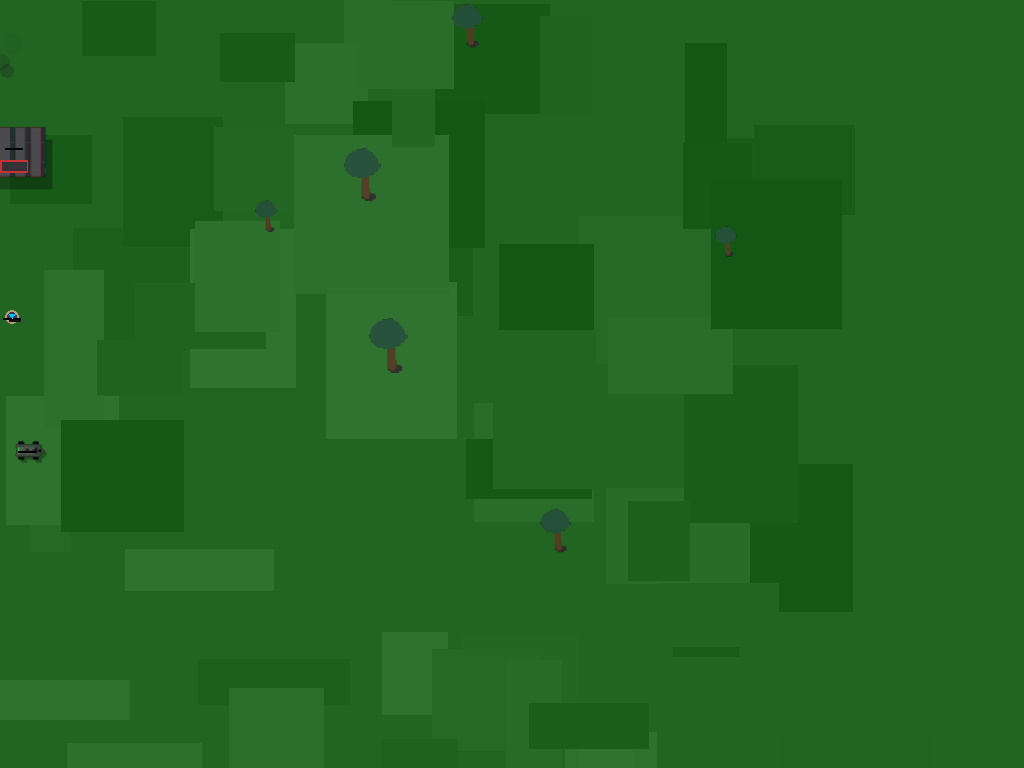ArmoredCar: (12, 434, 42, 464)
FactoryBuilding: (0, 104, 86, 190)
RocketTrooper: (0, 303, 28, 331)
